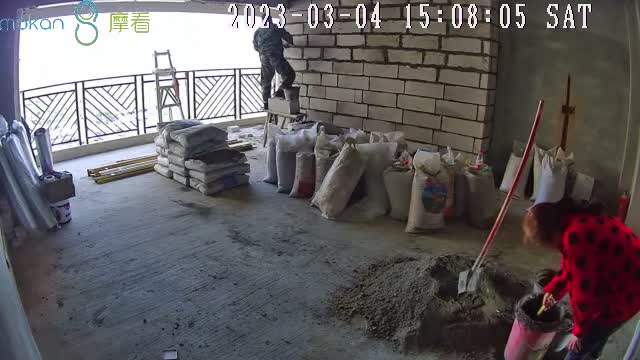people: (253, 13, 294, 111)
window: (20, 15, 283, 149)
